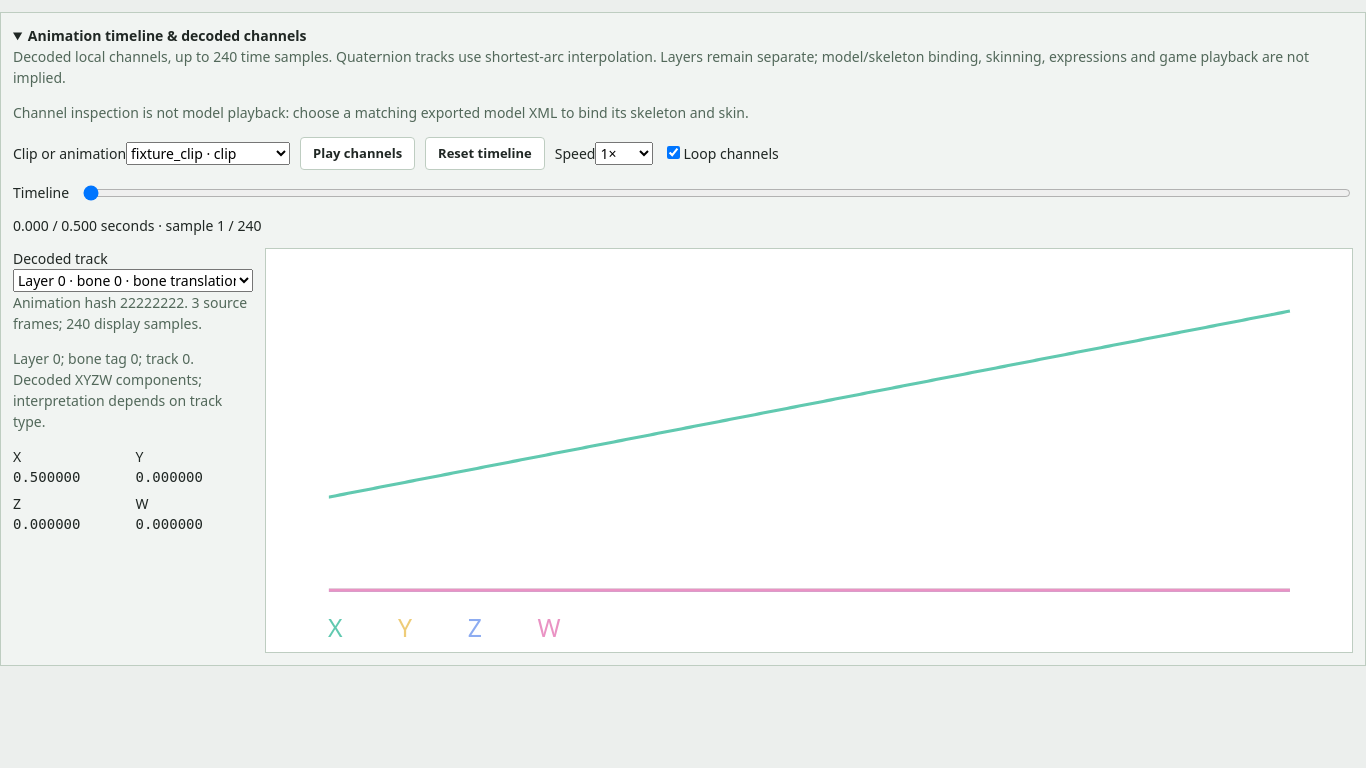
Test case: shows the native-backed curves, exact time samples and per-track identity
Later steps or results of the test are not shown.
Expected: the text "Channel inspection is not model playback" is shown, [13, 103, 749, 122]
Set the slider named "Animation time" to ".5": (717, 192) [83, 184, 1351, 200]
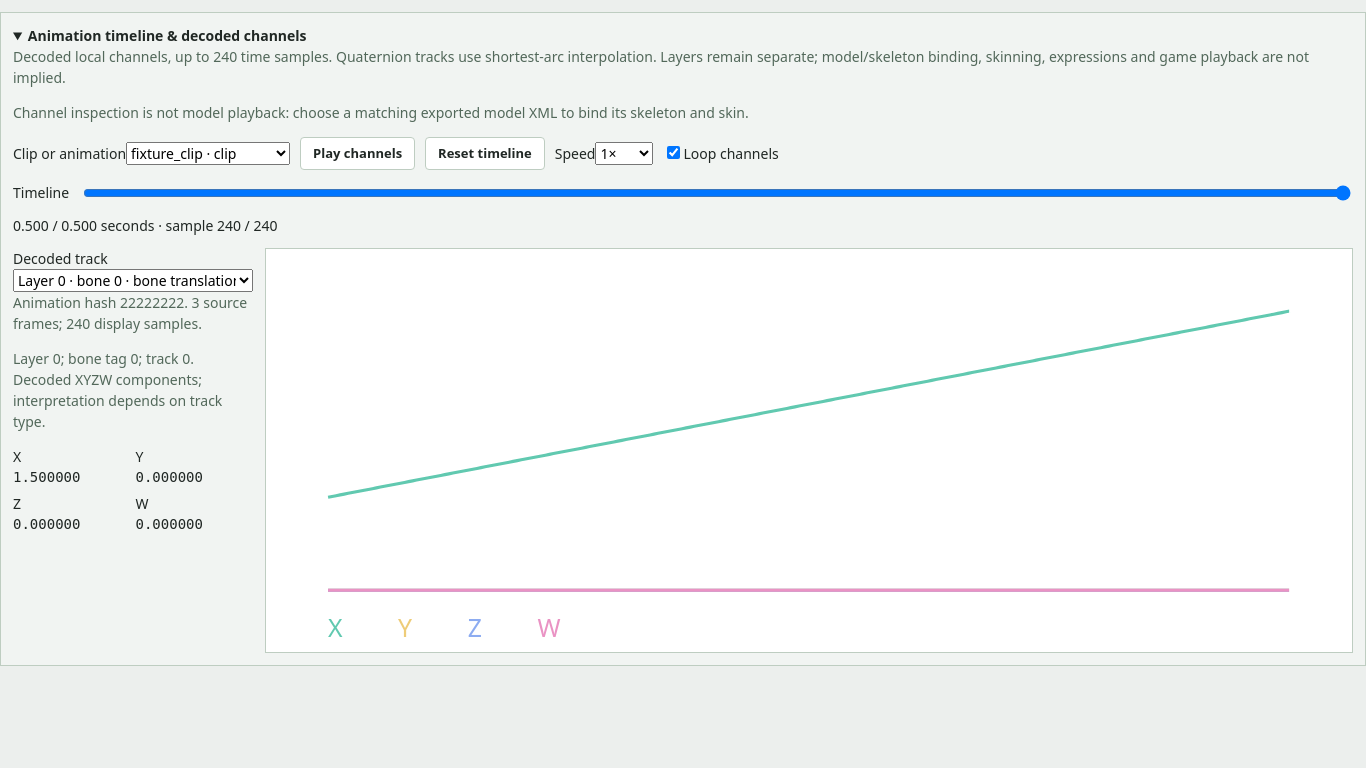
Now the text named "Animation timestamp" shows "0.500 / 0.500 seconds", box [13, 216, 278, 235]
Now the text "1.500000" is shown, box [13, 469, 80, 485]
Select "Layer 0 · bone 0 · bone rotation" in the dropdown named "Animation track": (133, 280) [13, 269, 253, 292]
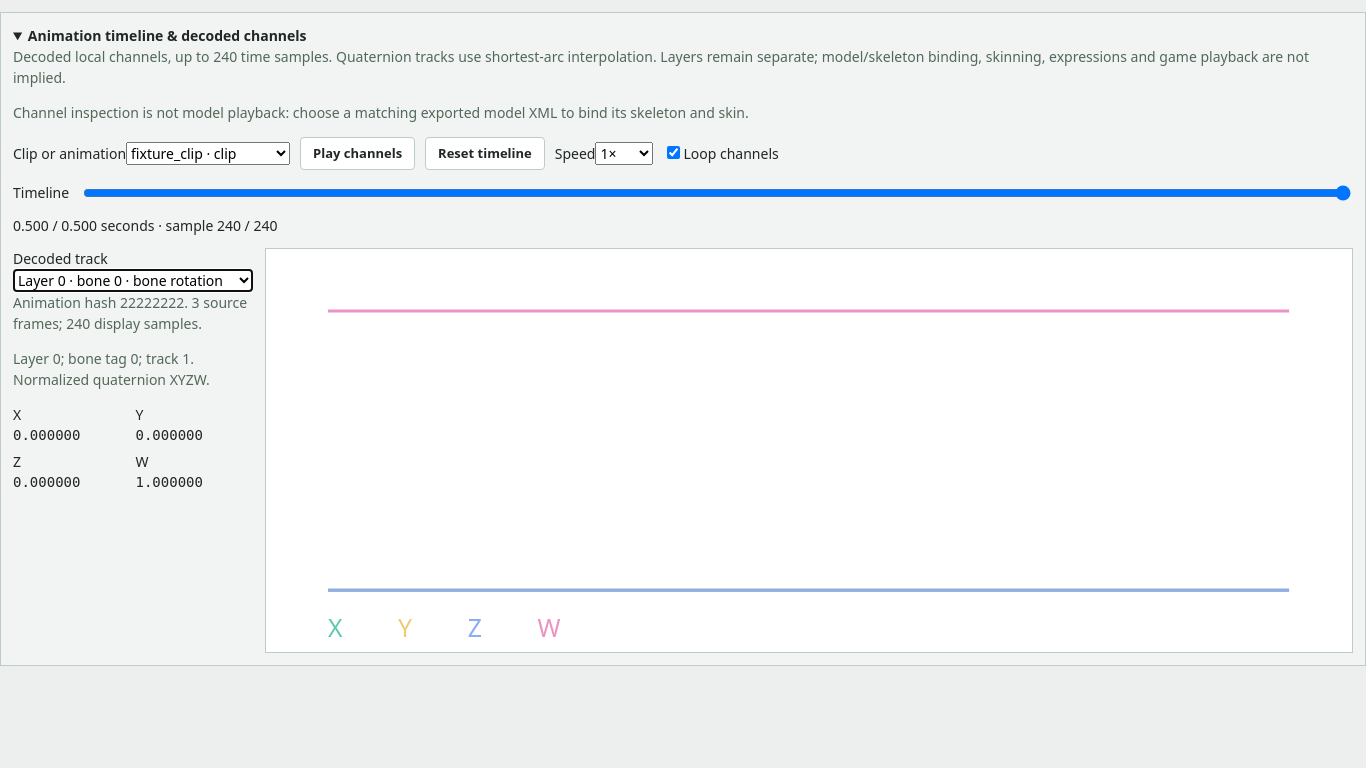
Now the text "Layer 0; bone tag 0; track 1. Normalized quaternion XYZW." is shown, box [13, 349, 210, 389]
